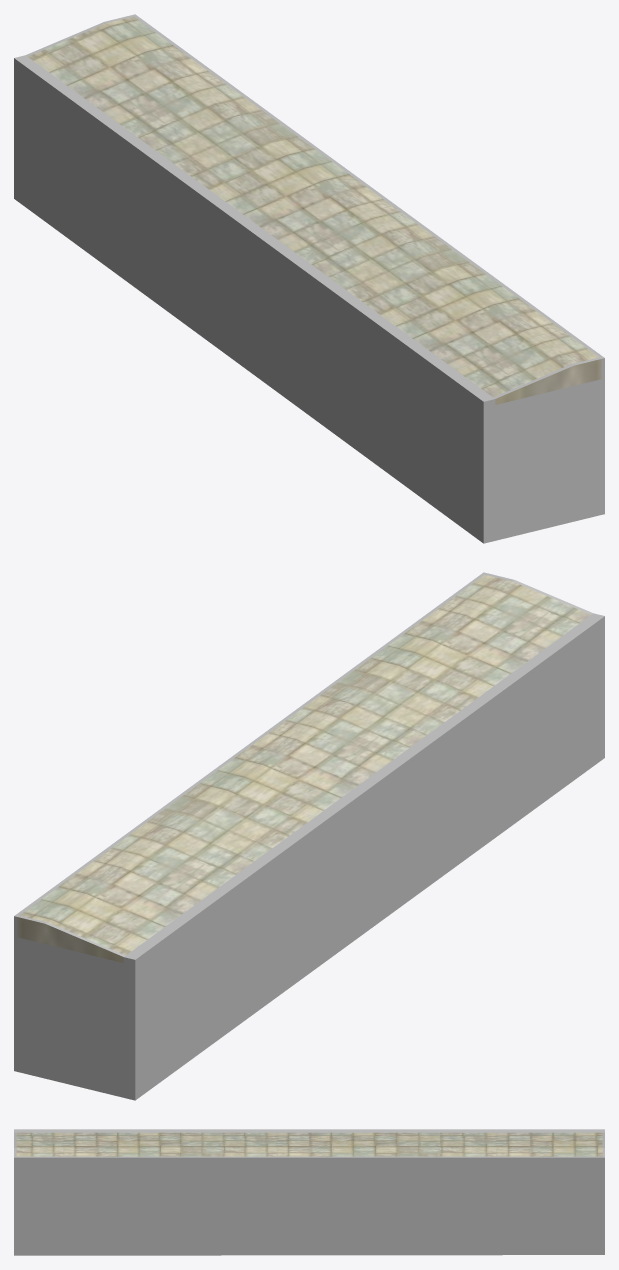
File: road_02a_hedge.fbx
The picture shows the model from 3 angles, top to bottom: view 1: azimuth 30°, elevation 25°; view 2: azimuth 150°, elevation 25°; view 3: azimuth 270°, elevation 25°; orthographic projection. The views are drawn at different scales.
Parts seen in each view (by area): view 1: road_02a_hedge; view 2: road_02a_hedge; view 3: road_02a_hedge.
Boxes of the visible parts, box(x1,y1,x2,y2) form: road_02a_hedge: box(14, 14, 604, 543); road_02a_hedge: box(14, 572, 604, 1100); road_02a_hedge: box(14, 1129, 604, 1255).
Bounding box in the file's own units: 1.79 × 2.2 × 12.
